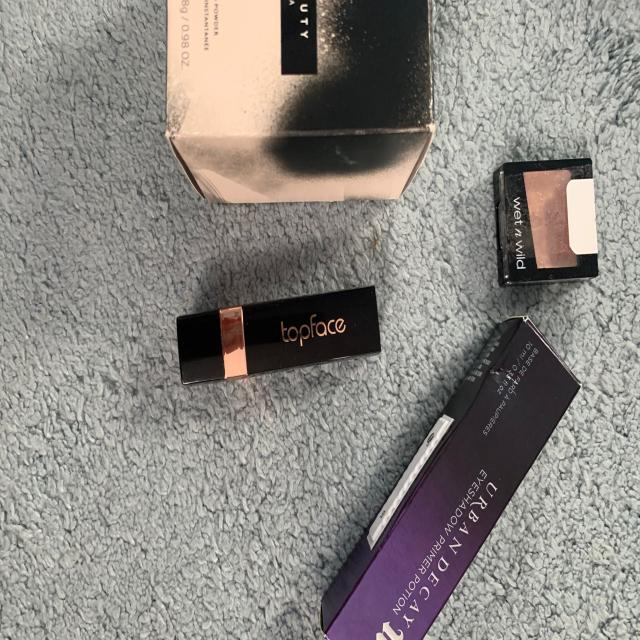lip stick: (312, 314, 590, 640), (161, 286, 395, 394)
powder: (174, 0, 431, 210), (497, 152, 601, 288)
